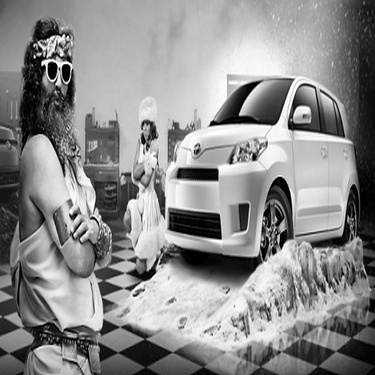car: (144, 65, 363, 252)
